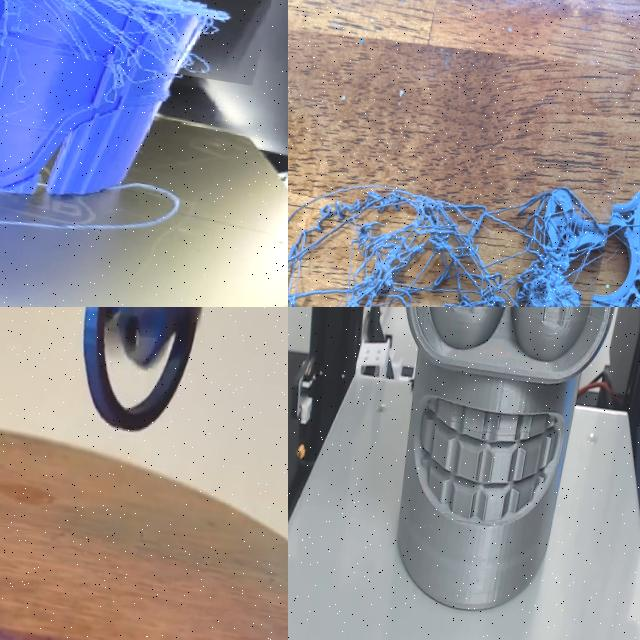spaghetti: (288, 67, 629, 307), (0, 0, 283, 87)
